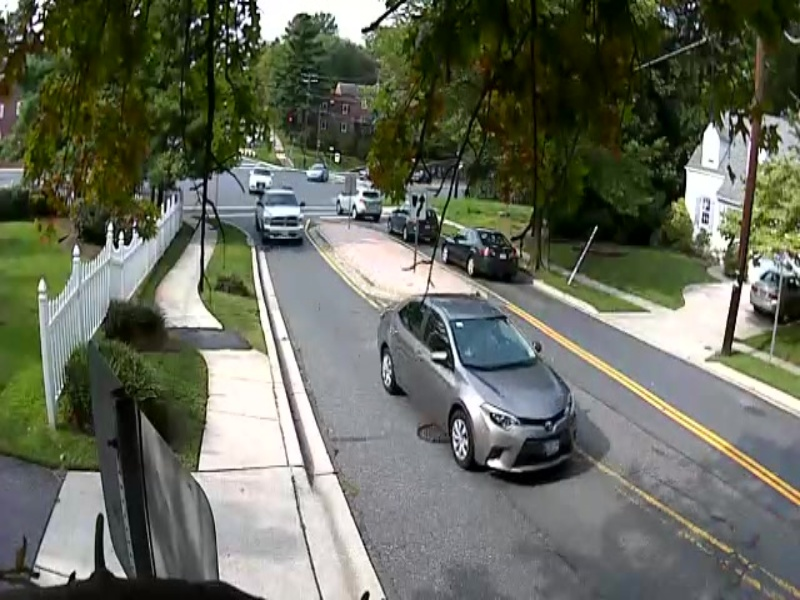car: (344, 289, 596, 496), (432, 222, 546, 278)
